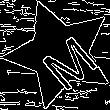M_NW: (25, 20, 94, 88)
